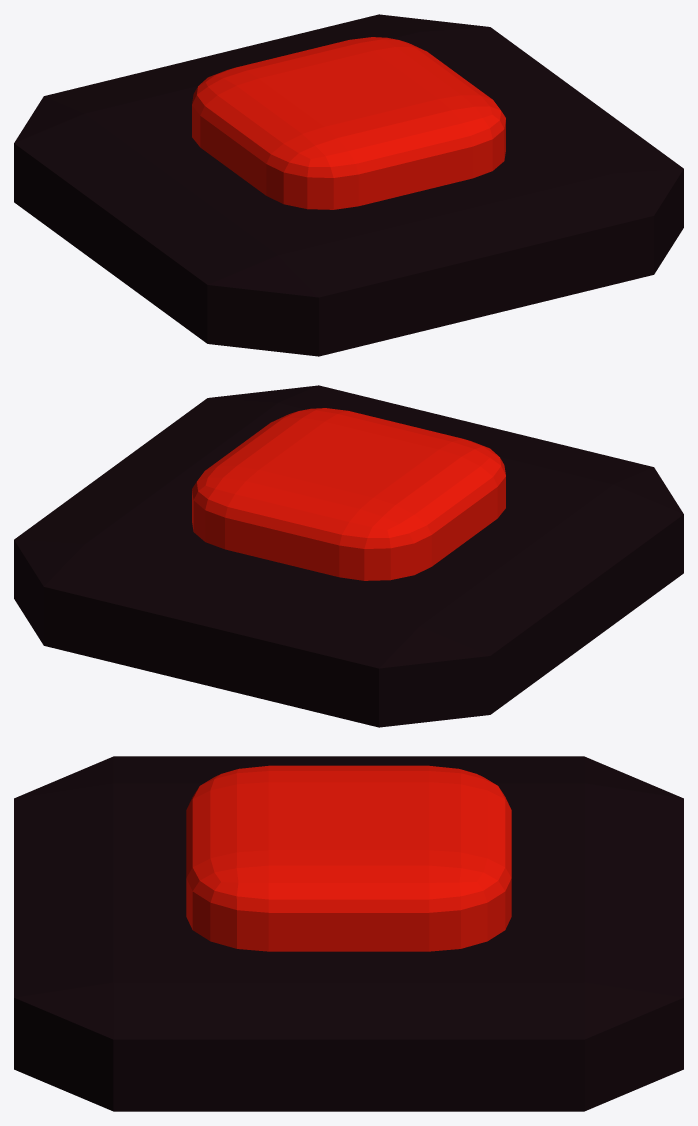
File: button.glb
3 views of the same model, one above another, from view 1: azimuth 30°, elevation 25°; view 2: azimuth 150°, elevation 25°; view 3: azimuth 270°, elevation 25° (orthographic). The views are drawn at different scales.
Parts seen in each view (by area): view 1: Cube, Cube.001; view 2: Cube, Cube.001; view 3: Cube, Cube.001.
Boxes of the visible parts, x1=… form: Cube: x1=14, y1=14, x2=683, y2=356; Cube.001: x1=192, y1=37, x2=505, y2=209; Cube: x1=14, y1=385, x2=683, y2=727; Cube.001: x1=192, y1=408, x2=505, y2=580; Cube: x1=14, y1=756, x2=683, y2=1111; Cube.001: x1=186, y1=765, x2=511, y2=951.
Bounding box in the file's own units: 2 × 0.5564 × 2.
